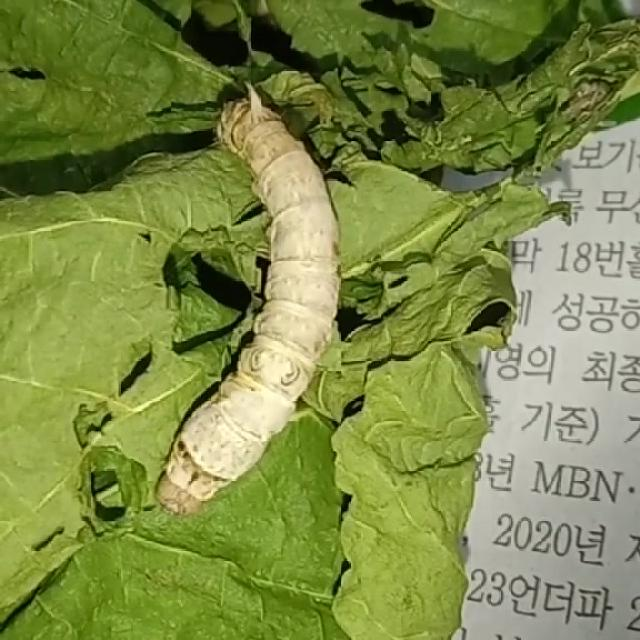Grasserie: (146, 83, 368, 516)
